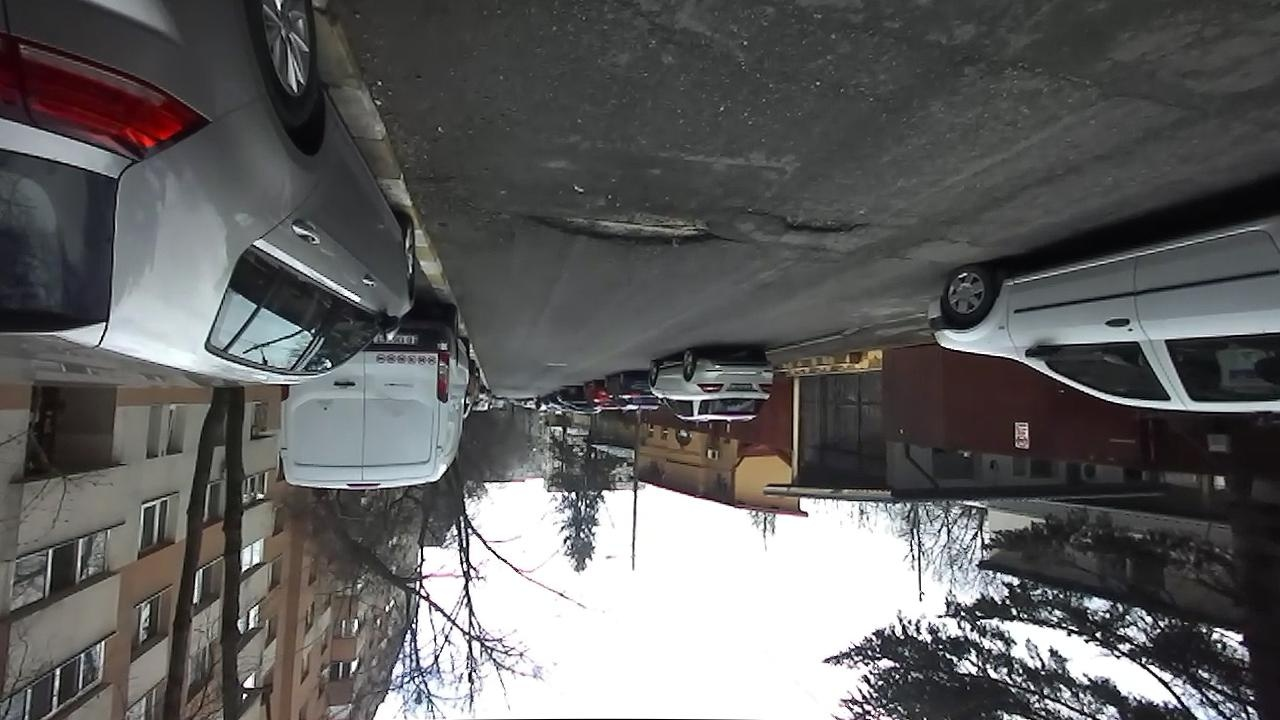pothole: (512, 198, 741, 250), (744, 205, 869, 237)
